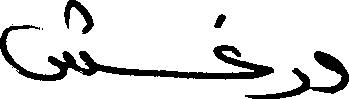X: (0, 0, 93, 85), (215, 9, 273, 98), (314, 46, 348, 98), (275, 63, 309, 98)
